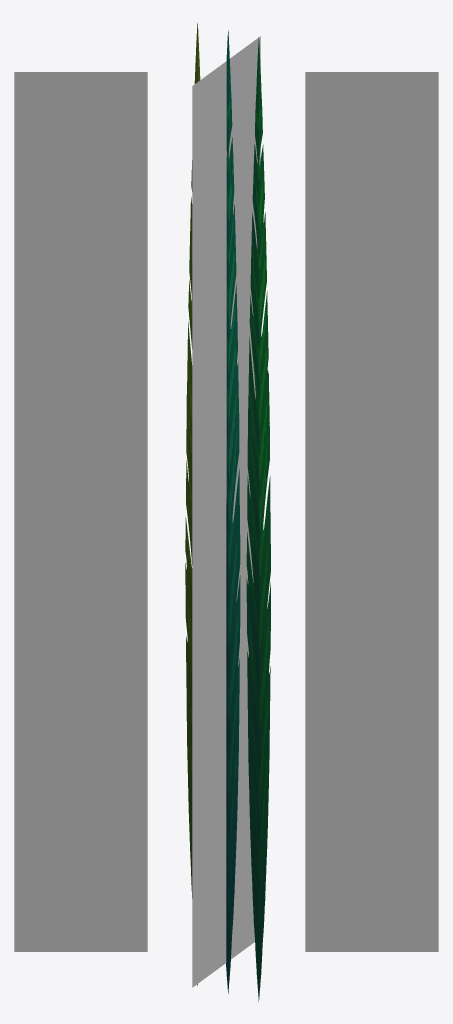
File: M_végétation_4.FBX
The picture shows the model from 3 angles, left to right: view 1: azimuth 90°, elevation 25°; view 2: azimuth 150°, elevation 25°; view 3: azimuth 270°, elevation 25°; orthographic projection. The views are drawn at different scales.
Visible parts, largest first — view 1: Plane199; view 2: Plane199, Plane200; view 3: Plane199.
Boxes of the visible parts, box(x1,y1,x2,y2) form: Plane199: box(14, 72, 147, 951); Plane199: box(192, 36, 260, 987); Plane200: box(185, 23, 270, 1001); Plane199: box(305, 72, 438, 951).
Bounding box in the file's own units: 142 × 1305 × 166.
